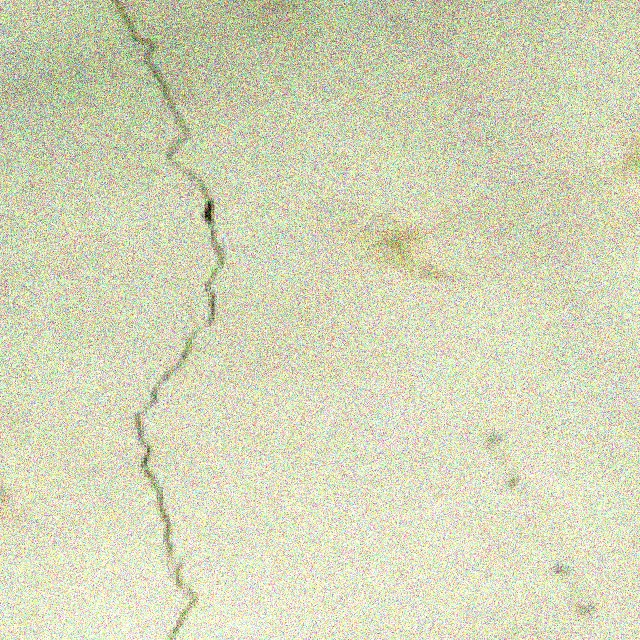SurfaceCrack: (94, 0, 232, 640)
